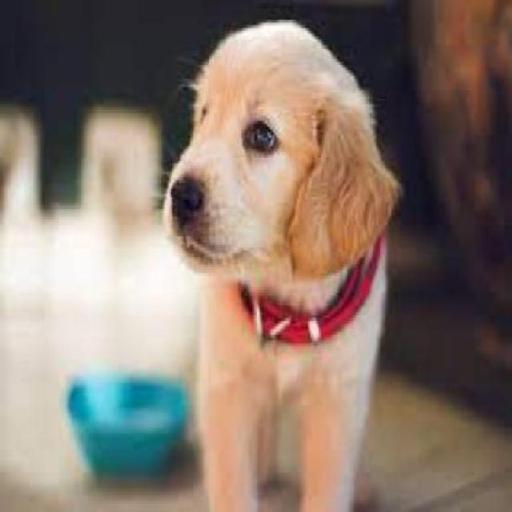Dog: (182, 22, 408, 500)
